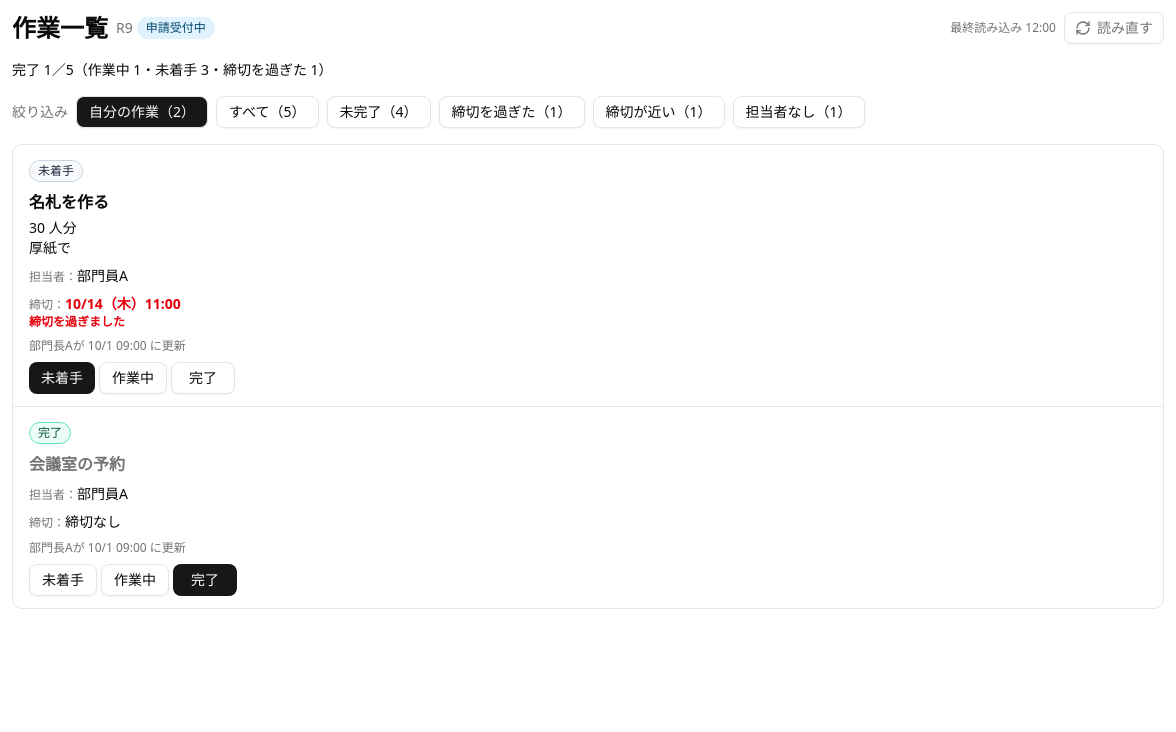
Test case: T20 作業一覧：状態のボタン（set_task_status） › 応答が届かず版が読んだときのまま：「保存できたか分かりません。もう一度押すと、確かめてから送ります」
This screenshot has width=1176, height=732.
Check: the list item with test id "tasks-item" that starts with "未着手" is shown, box [13,145,1163,407]
Step 1. Click the button with test id "task-set-done" → x=203, y=378, box [171,362,235,394]
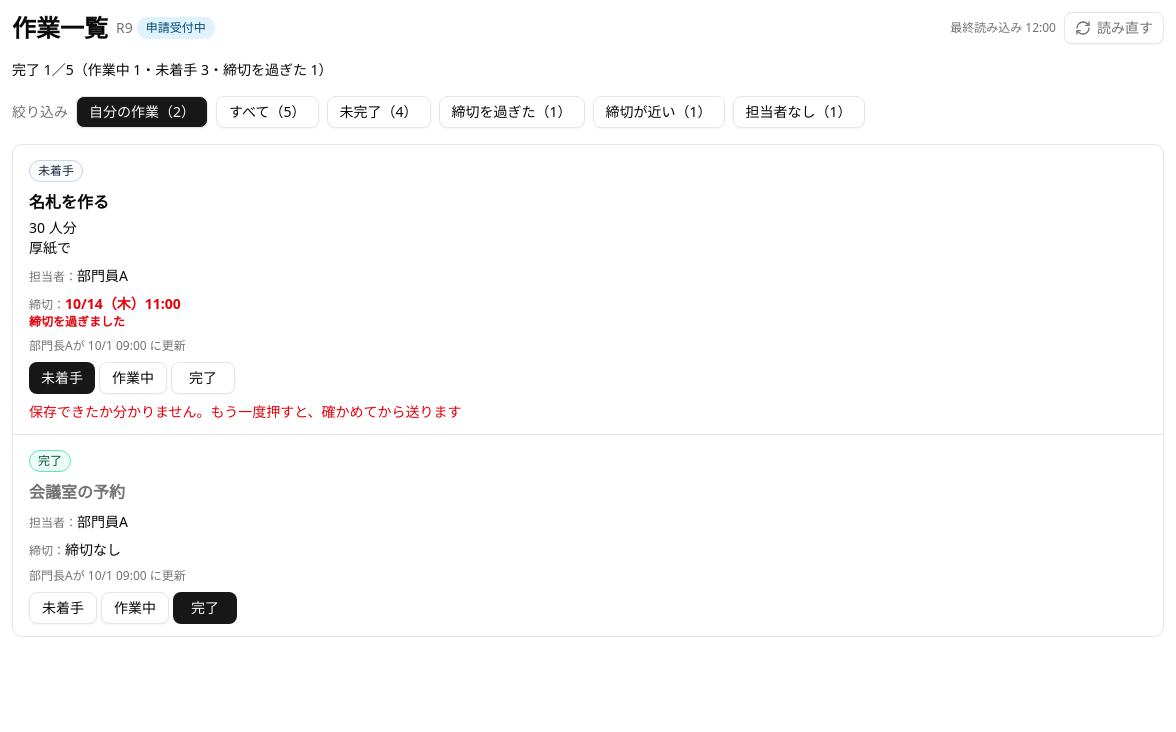
Check: the message with test id "tasks-error" reads "保存できたか分かりません。もう一度押すと、確かめてから送ります", box [29,402,462,421]
